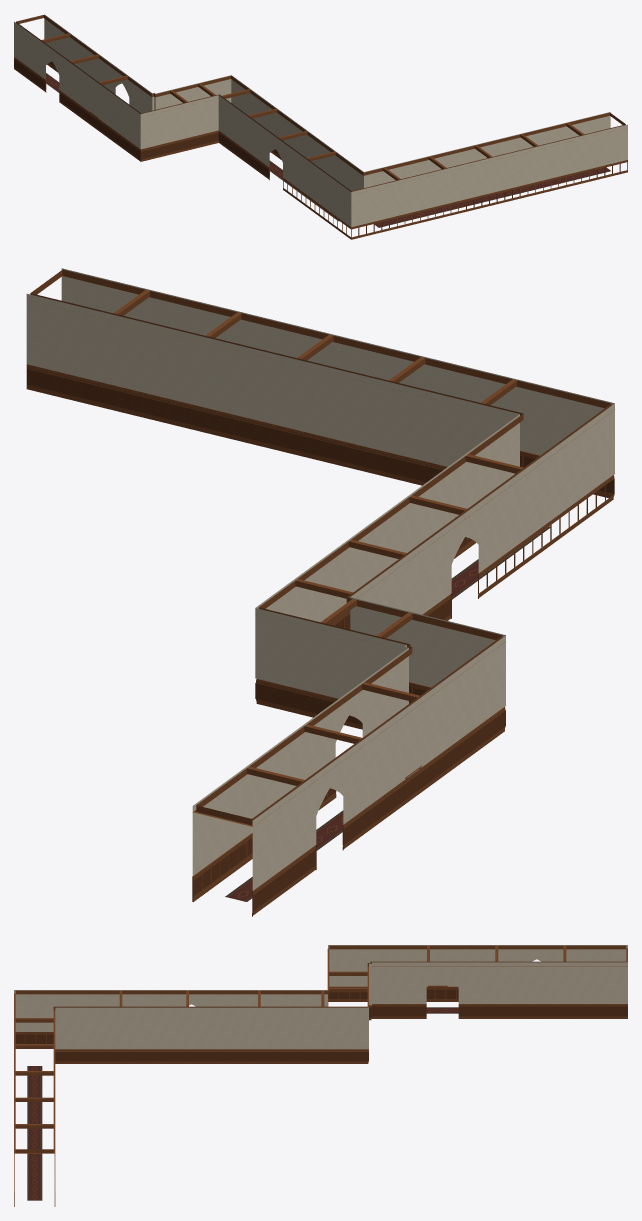
Rendered from scholars_passage.glb.
3 renders of one model, top to bottom at view 1: azimuth 30°, elevation 25°; view 2: azimuth 150°, elevation 25°; view 3: azimuth 270°, elevation 25°, orthographic. The views are drawn at different scales.
Parts seen in each view (by area): view 1: Soft limewash, Scholars oak moulding, Scholars recessed oak, Worn Scholars Passage runner; view 2: Soft limewash, Scholars oak moulding, Scholars recessed oak, Worn Scholars Passage runner; view 3: Soft limewash, Scholars oak moulding, Scholars recessed oak, Worn Scholars Passage runner.
Boxes of the visible parts, x1=… form: Soft limewash: x1=14, y1=14, x2=627, y2=227; Scholars oak moulding: x1=14, y1=15, x2=627, y2=239; Scholars recessed oak: x1=14, y1=59, x2=279, y2=177; Worn Scholars Passage runner: x1=46, y1=73, x2=610, y2=227; Soft limewash: x1=26, y1=268, x2=614, y2=890; Scholars oak moulding: x1=26, y1=269, x2=614, y2=916; Scholars recessed oak: x1=27, y1=368, x2=614, y2=910; Worn Scholars Passage runner: x1=225, y1=526, x2=550, y2=901; Soft limewash: x1=14, y1=945, x2=627, y2=1049; Scholars oak moulding: x1=14, y1=945, x2=627, y2=1206; Scholars recessed oak: x1=15, y1=989, x2=627, y2=1061; Worn Scholars Passage runner: x1=27, y1=1007, x2=458, y2=1200.
Bounding box in the file's own units: 30.95 × 4.01 × 39.14.
4 materials, 4 textured.
